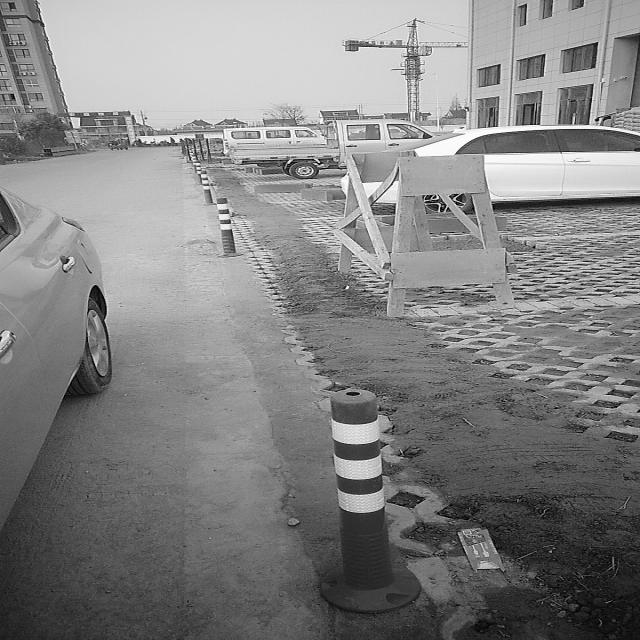car: (0, 186, 116, 523), (340, 123, 638, 214), (220, 126, 327, 150)
truck: (228, 119, 438, 177)
warning_column: (316, 386, 419, 610), (212, 196, 244, 256), (200, 170, 216, 204)
